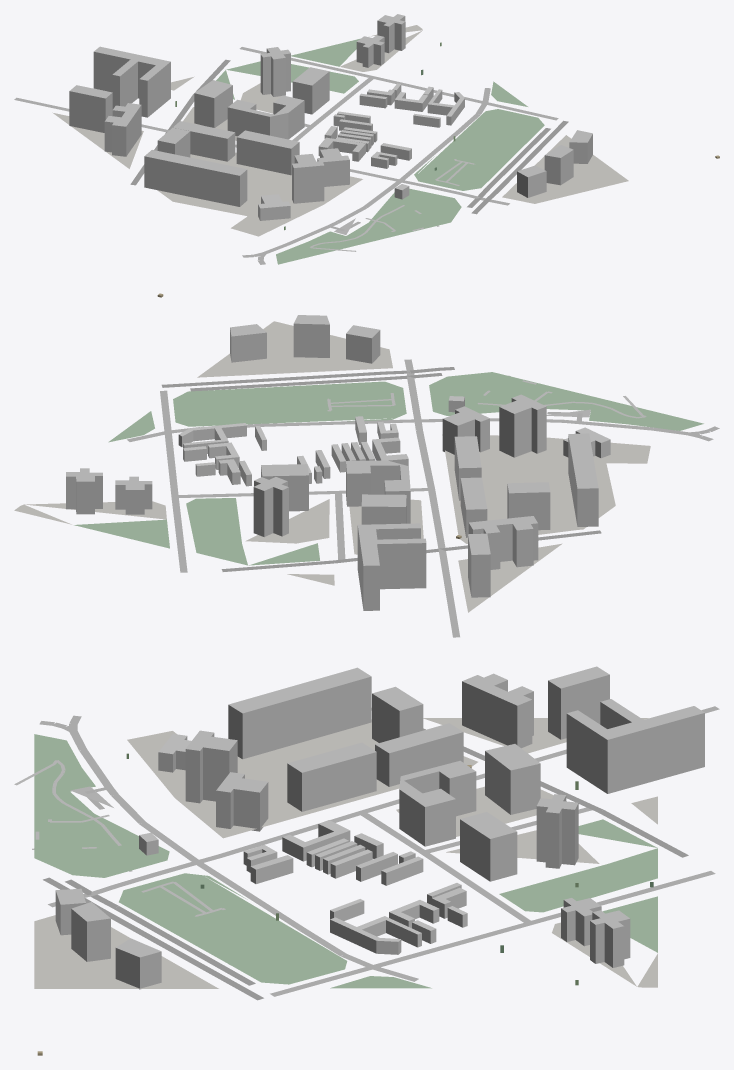
3 views of the same model, one above another, from view 1: azimuth 30°, elevation 25°; view 2: azimuth 150°, elevation 25°; view 3: azimuth 270°, elevation 25° (orthographic). The views are drawn at different scales.
Size of the model in its own units: 647 by 53.73 by 566.
